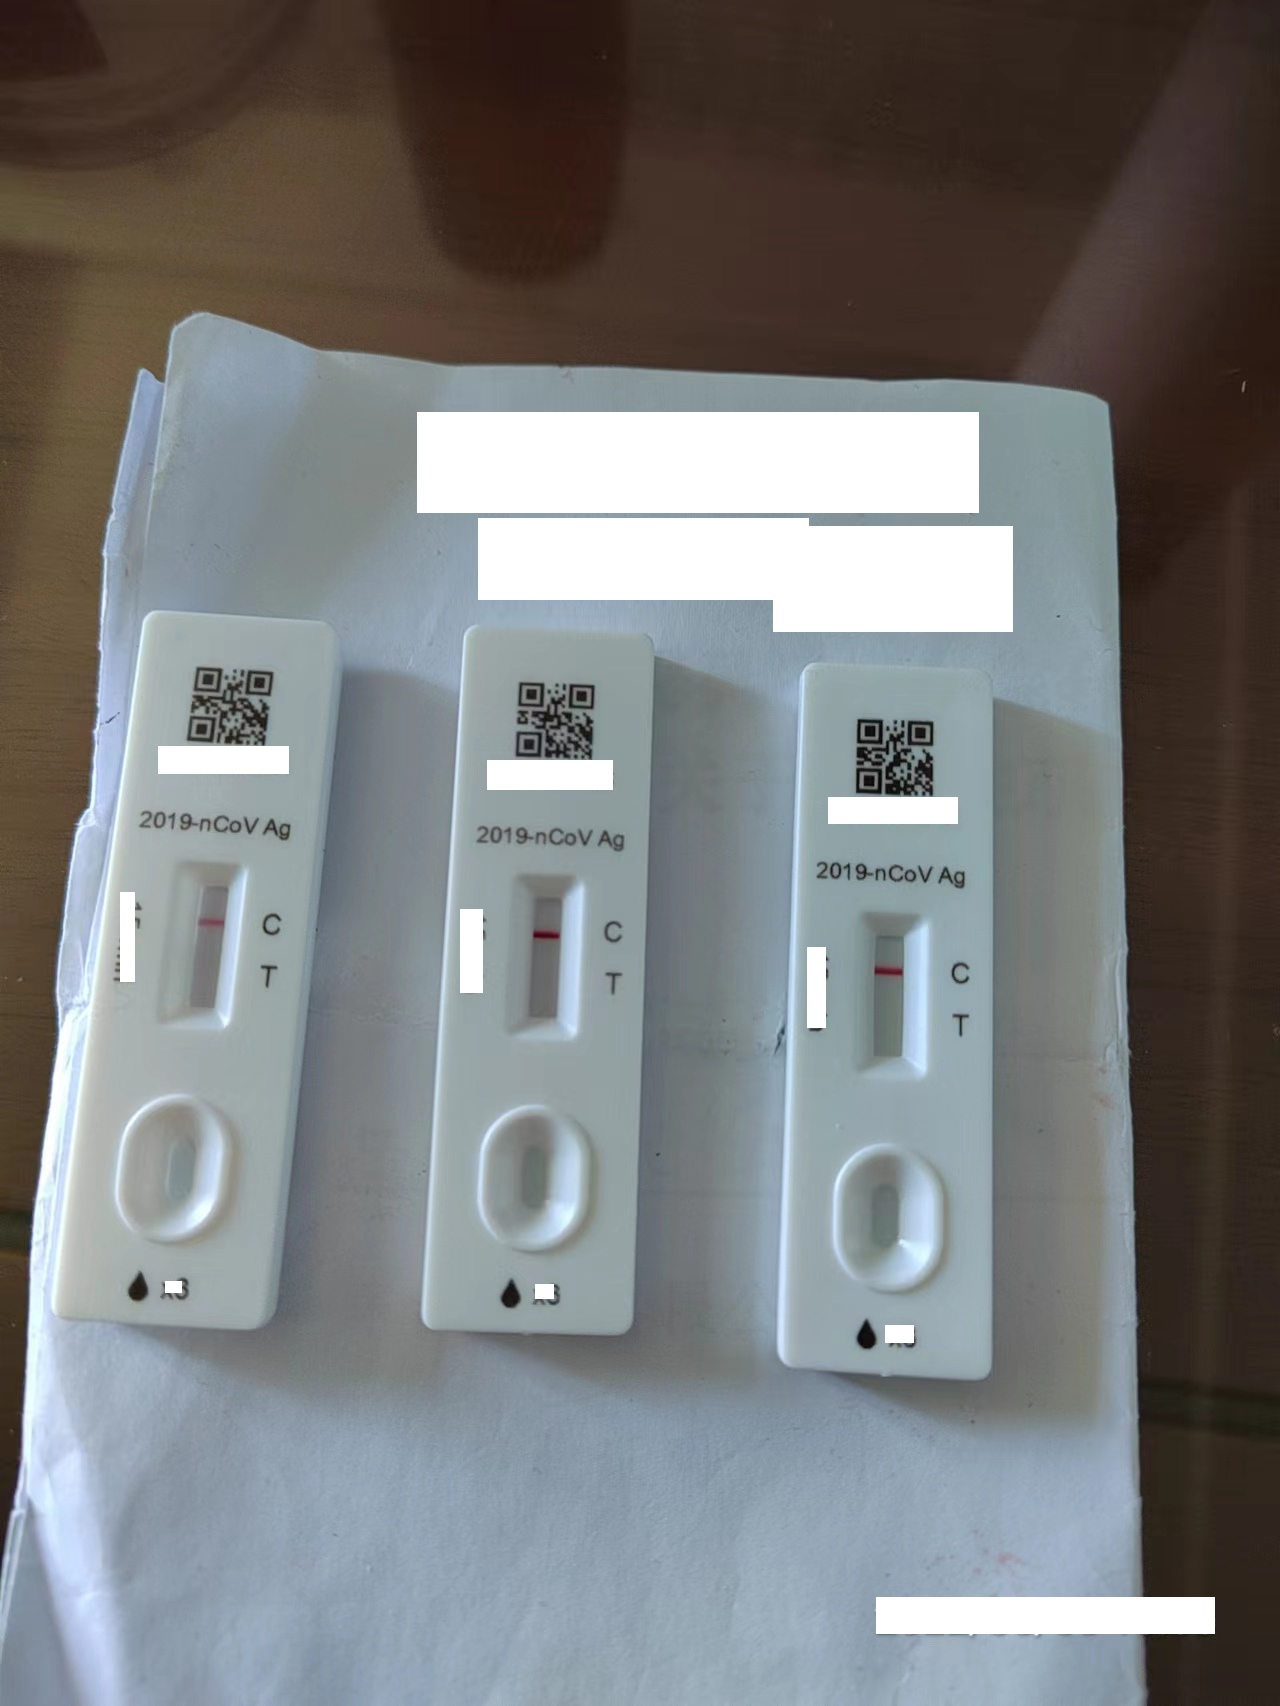negative: (161, 858, 249, 1030), (852, 907, 930, 1075), (510, 872, 581, 1038)
